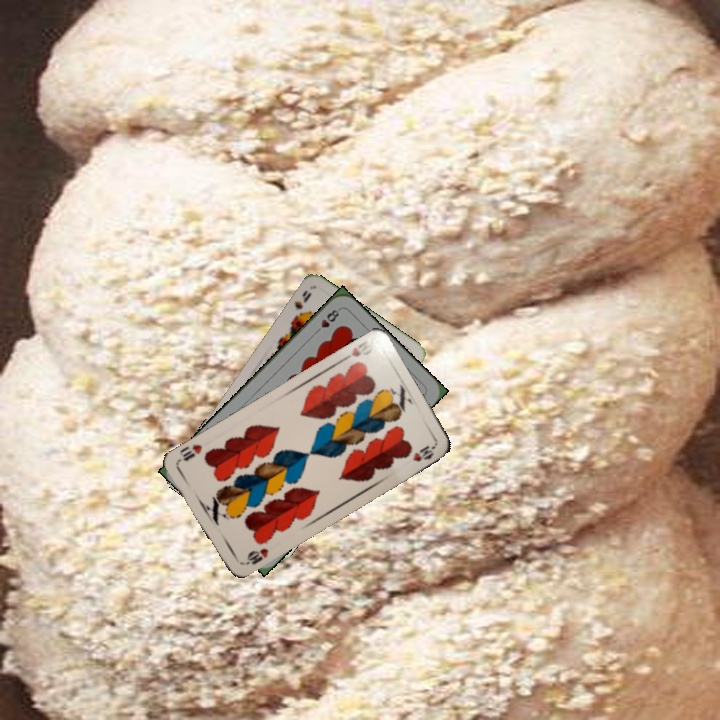H10: (337, 342, 376, 364), (239, 544, 271, 568)
H8: (310, 305, 342, 337)
S9: (288, 286, 314, 323)
